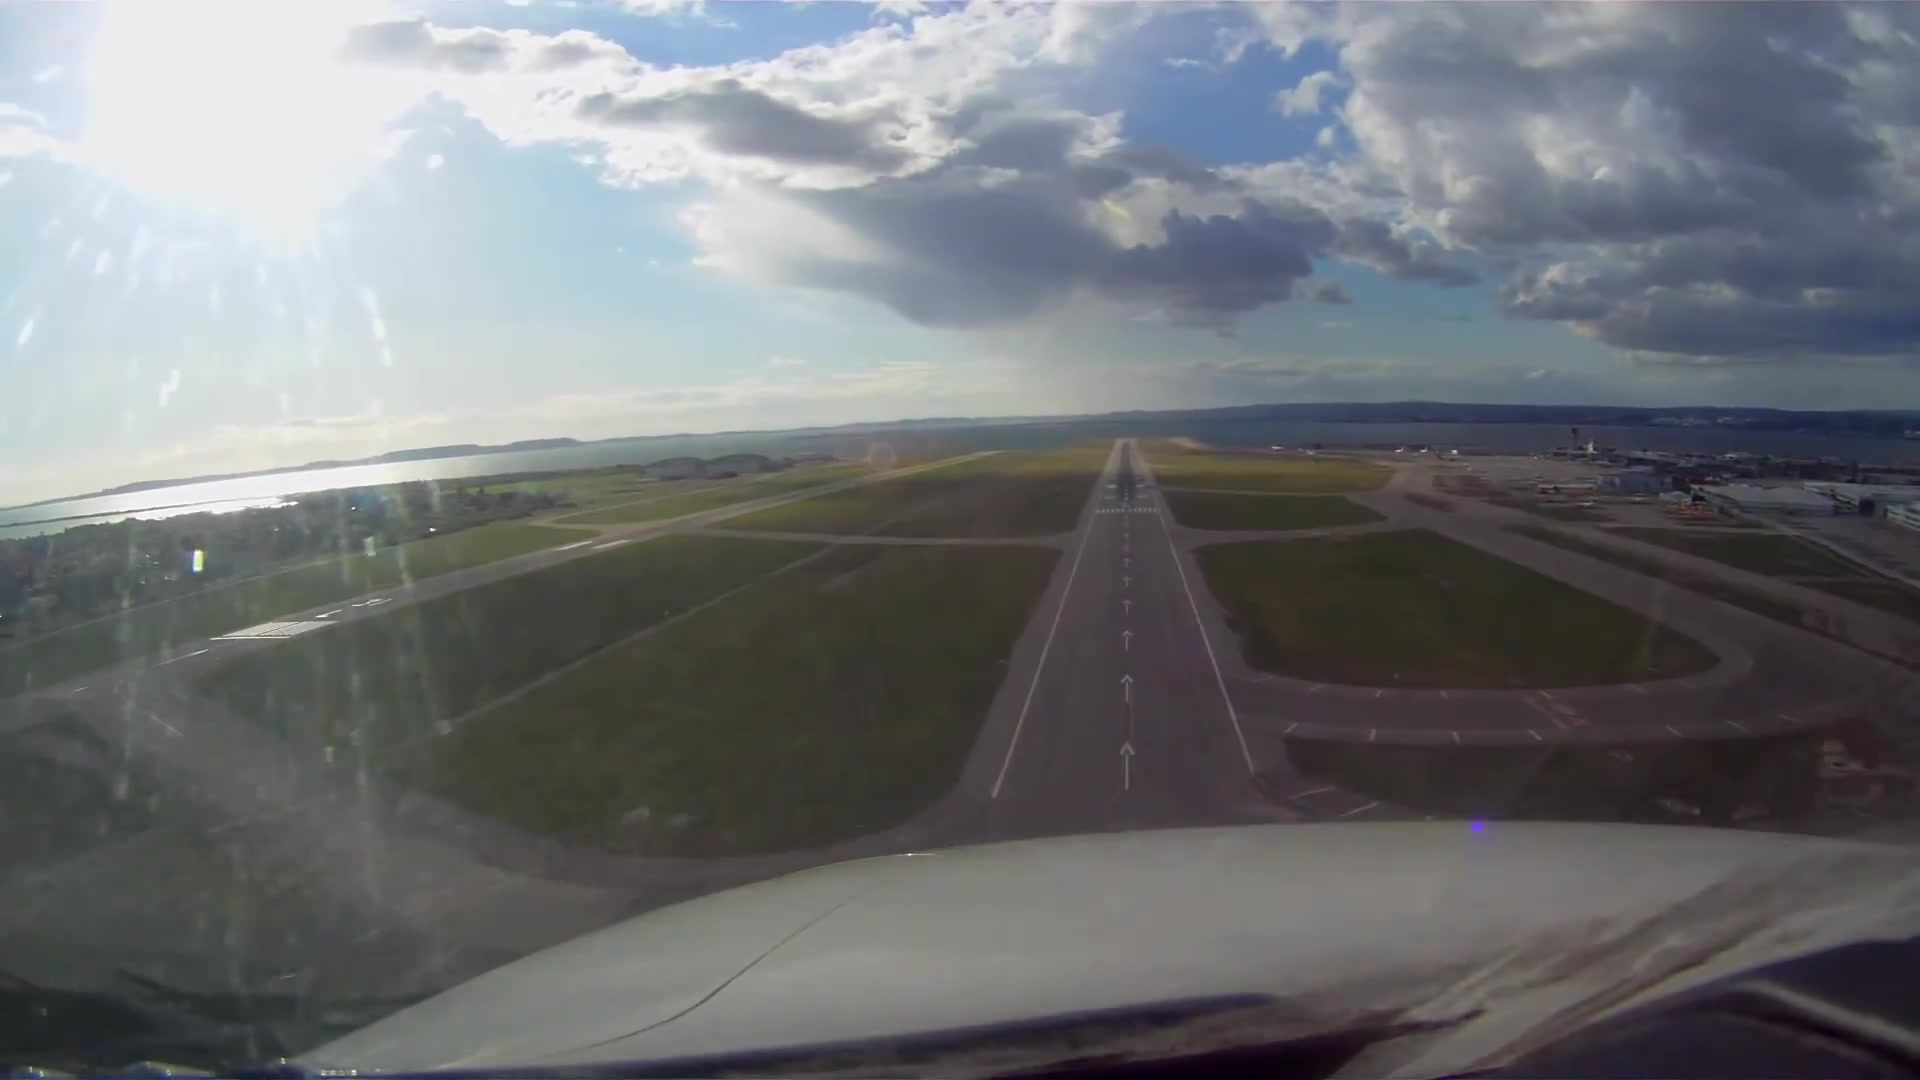entrance: (1089, 504, 1164, 516)
runway: (980, 435, 1259, 806)
